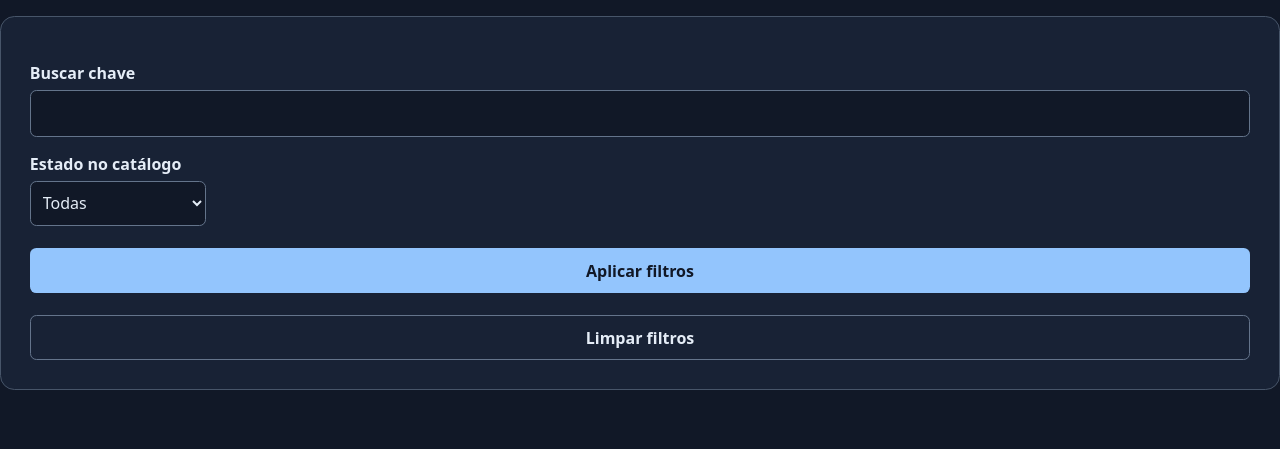
Test: aplica busca literal normalizada e estado; rejeita curinga e limpa filtros
Later steps or results of the test are not shown.
Type "%" into the field labelled "Buscar chave" at (640, 113), box [30,90,1250,137]
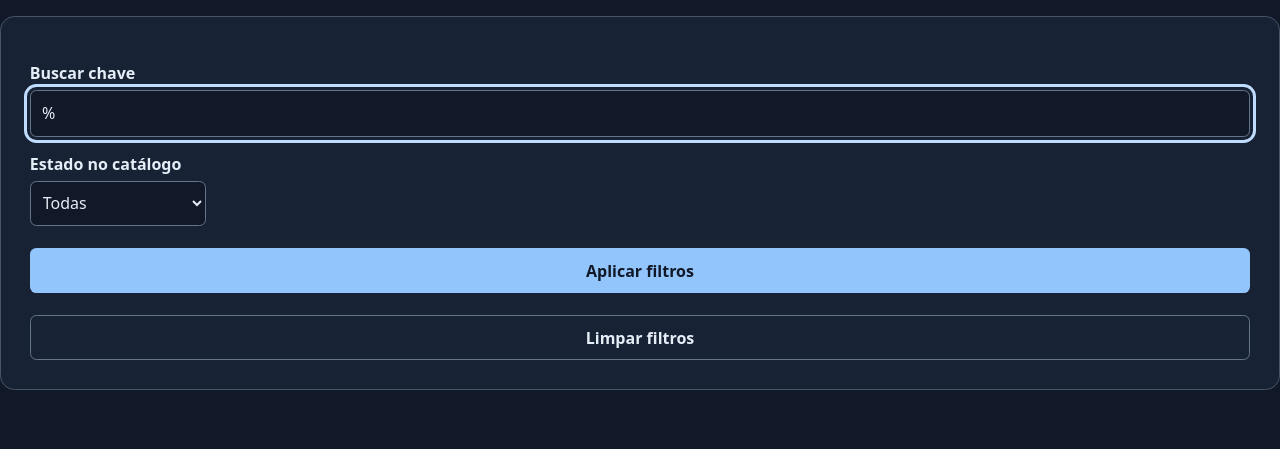
Click the button "Aplicar filtros" at (640, 270), box [30,248,1250,293]
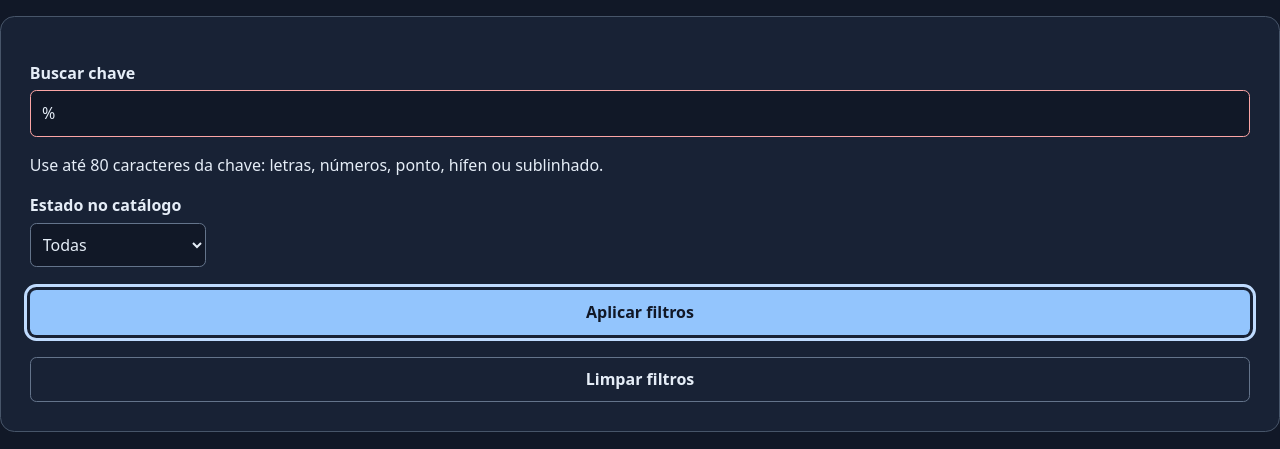
Expected: the message "Use até 80 caracteres da chave: letras, números, ponto, hífen ou sublinhado." is shown, [30,154,603,176]
